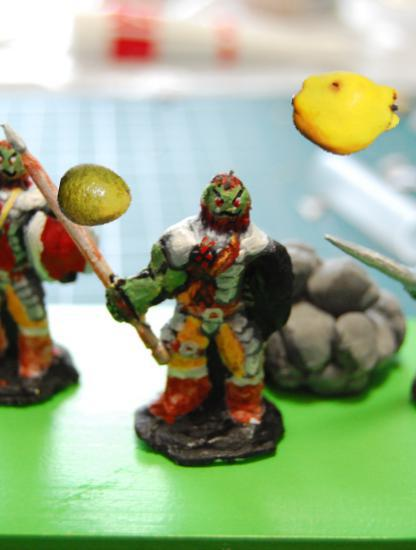Guava: (58, 159, 134, 235)
Quince: (291, 59, 400, 168)
